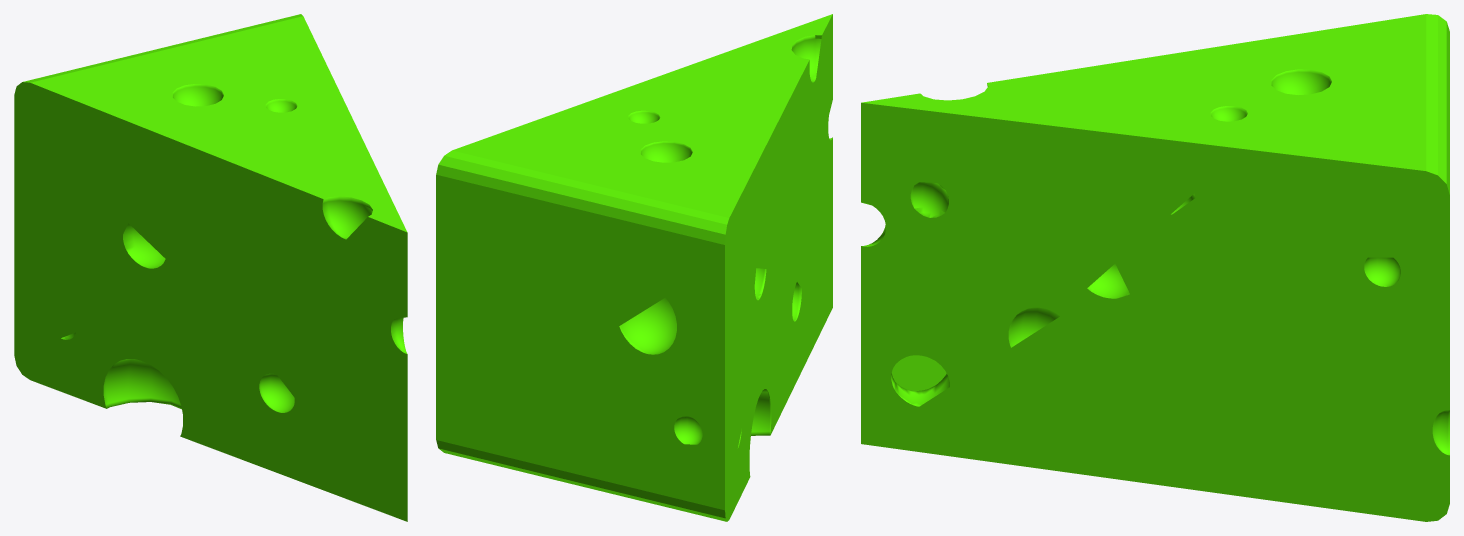
The model's file is fromage.fbx.
The picture shows the model from 3 angles, left to right: view 1: azimuth 30°, elevation 25°; view 2: azimuth 150°, elevation 25°; view 3: azimuth 270°, elevation 25°; orthographic projection. The views are drawn at different scales.
Parts seen in each view (by area): view 1: Cube; view 2: Cube; view 3: Cube.
Boxes of the visible parts, left/top/right/bottom form: Cube: left=14, top=14, right=407, bottom=521; Cube: left=436, top=14, right=832, bottom=521; Cube: left=861, top=14, right=1449, bottom=521.
Size of the model in its own units: 360 by 359 by 547.
